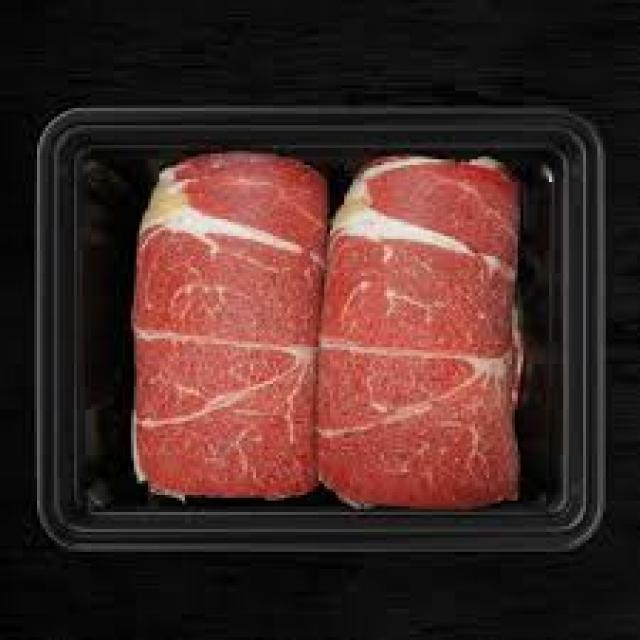beef: (123, 152, 532, 508)
